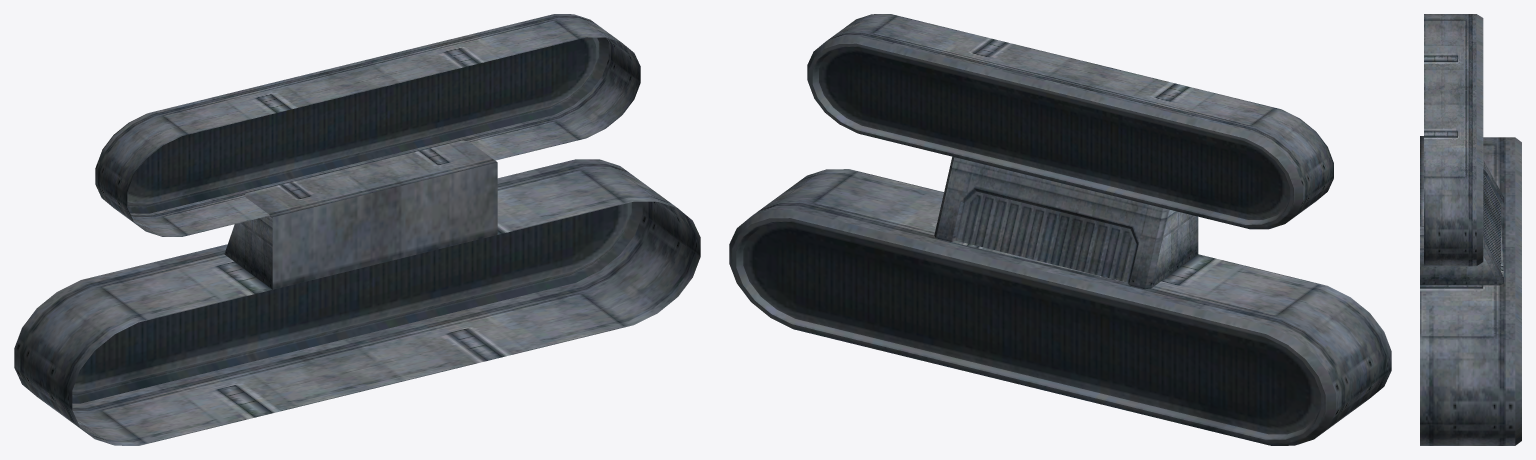
The model's file is vt49_engine_s01_l0.fbx.
3 views of the same model, side by side, from view 1: azimuth 30°, elevation 25°; view 2: azimuth 150°, elevation 25°; view 3: azimuth 270°, elevation 25° (orthographic). The views are drawn at different scales.
Visible parts, largest first — view 1: mesh_node; view 2: mesh_node; view 3: mesh_node.
Part boxes in pixels (<box>): mesh_node: <box>14,14,700,445</box>; mesh_node: <box>729,14,1391,445</box>; mesh_node: <box>1420,14,1521,445</box>.
Size of the model in its own units: 11.18 by 5.05 by 1.91.
1 material, 1 textured.
